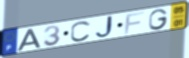3: (42, 24, 62, 47)
A: (17, 27, 43, 52)
C: (69, 20, 92, 43)
F: (124, 10, 147, 36)
G: (148, 8, 170, 31)
J: (94, 14, 117, 40)
